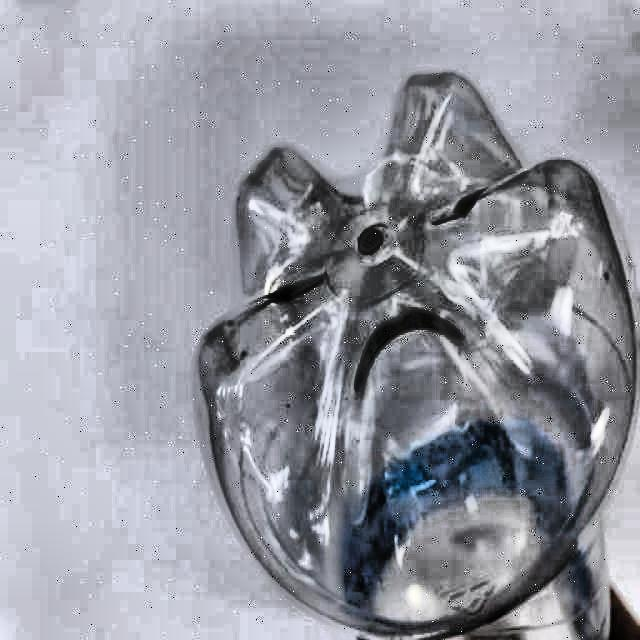plastic: (193, 71, 640, 640)
